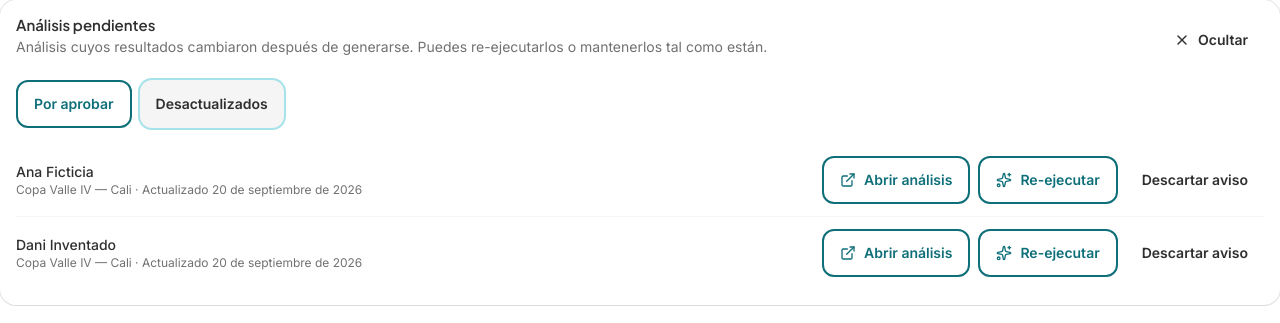
PendingAnalysesPanel — re-ejecutar › lanza con la temporada del ítem y event_id como ancla, sin consultar el evento, y confirma «Análisis iniciado»
Click the button with aria-label "Re-ejecutar el análisis de Ana Ficticia": (1048, 180) [978, 156, 1118, 204]
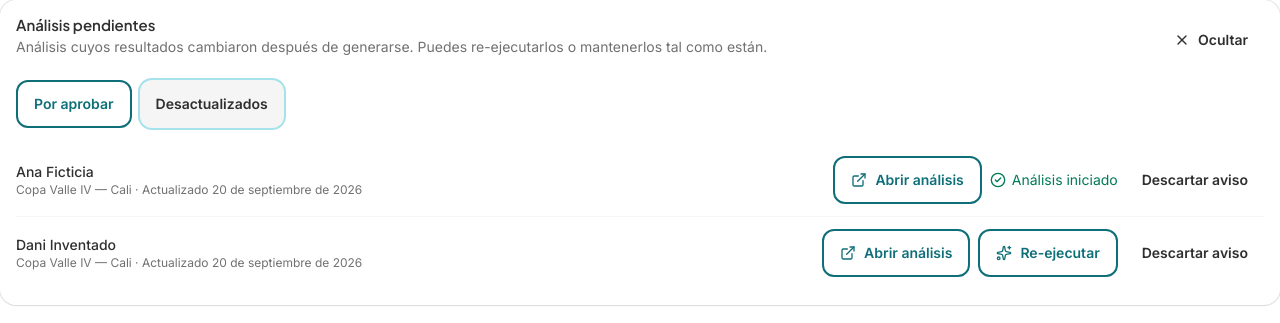
Result: the message with test id "pending-rerun-started-144" reads "Análisis iniciado" at [1012, 171, 1118, 188]
